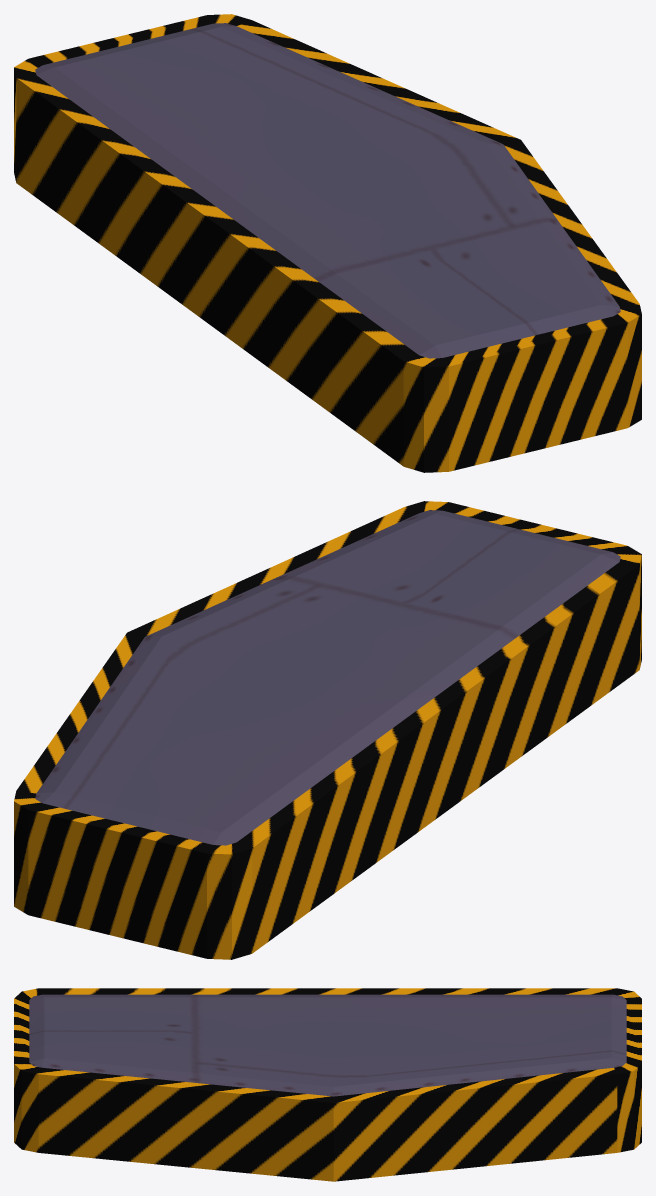
File: Default01_Platform.glb
3 renders of one model, top to bottom at view 1: azimuth 30°, elevation 25°; view 2: azimuth 150°, elevation 25°; view 3: azimuth 270°, elevation 25°, orthographic. The views are drawn at different scales.
Visible parts, largest first — view 1: Default01_Platform; view 2: Default01_Platform; view 3: Default01_Platform.
Boxes of the visible parts, x1=… form: Default01_Platform: x1=14, y1=14, x2=641, y2=472; Default01_Platform: x1=14, y1=501, x2=641, y2=959; Default01_Platform: x1=14, y1=988, x2=641, y2=1181.
Bounding box in the file's own units: 1.68 × 0.5607 × 3.89.
Materials: 1 (1 with a texture image).
